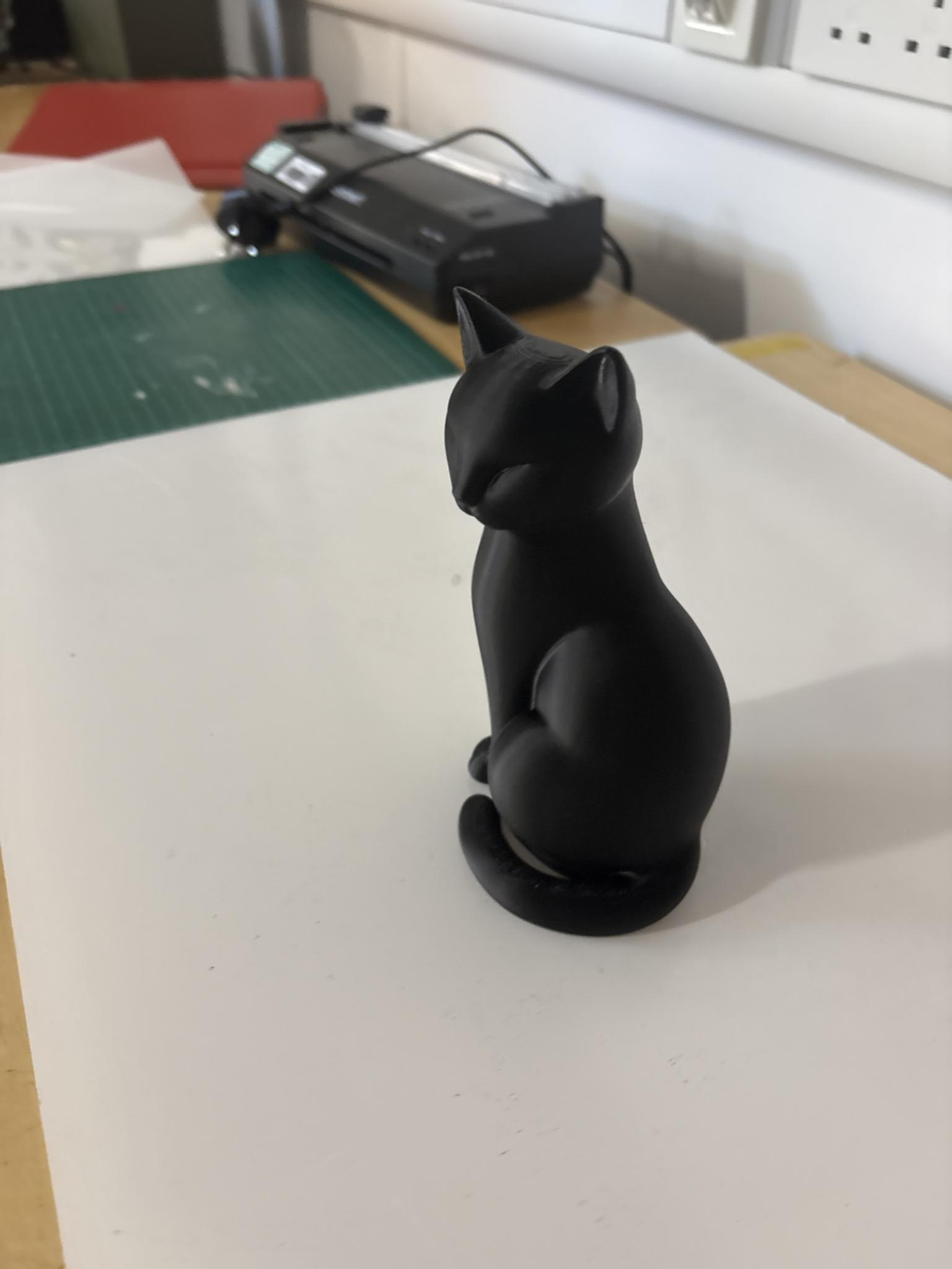cat: (446, 289, 729, 934)
